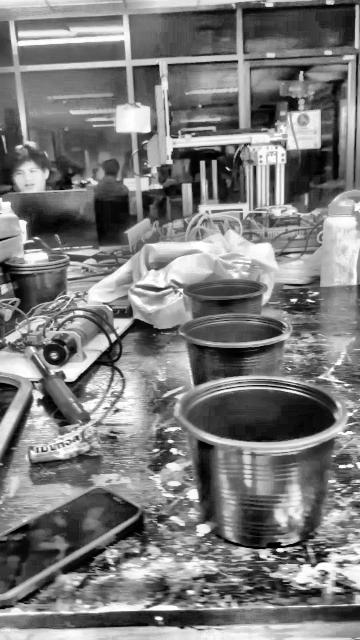pot: (175, 375, 345, 548), (179, 313, 291, 386), (1, 257, 72, 321), (185, 279, 267, 318)
